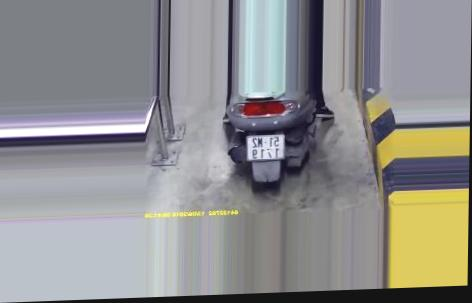License_Plate: (245, 130, 288, 164)
